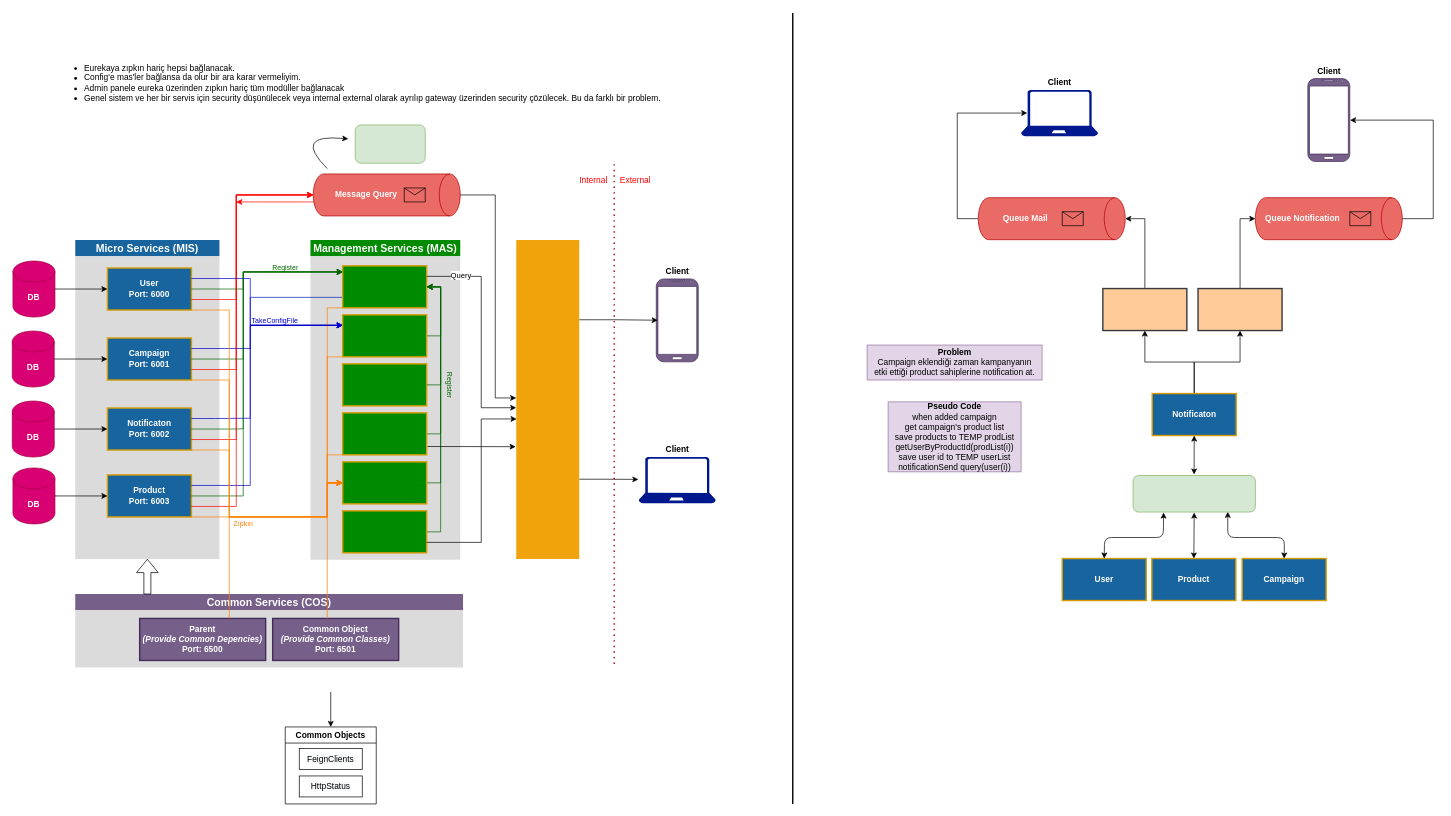
The diagram is 1451 pixels wide and 816 high, and some of its shapes have lost their labels. Each missing label, with the centre of its shape:
"Admin Panel (Actuator) Port: 7002" goes at (384,384).
"API Gateway Port: 80" goes at (547,399).
"Auth Port: 7005" goes at (384,531).
"Config Port: 7000" goes at (384,335).
"E-Mail" goes at (1144,309).
"Eureka Port: 7001" goes at (384,286).
"Feign Client" goes at (1193,493).
"Hystrix Port: 7003" goes at (384,433).
"OR Feign Client (Feign For Just MIS Modules)" goes at (390,143).
"Push Notification" goes at (1239,309).
"Zipkin Port: 7004" goes at (384,482).
